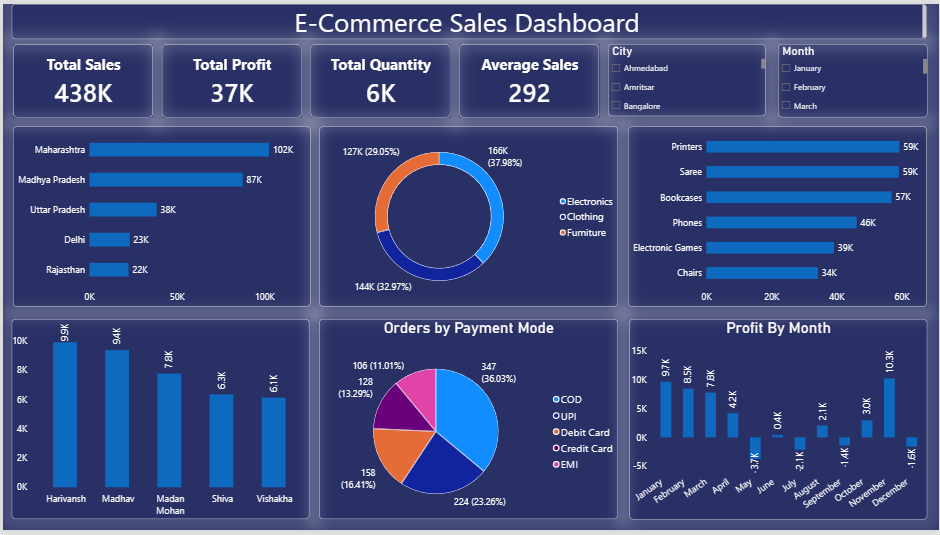

This screenshot's page, from the dashboard's own definition file:
{"tool":"powerbi","page":{"name":"Page 1","canvas":[1920,1080],"ordinal":0},"visuals":[{"type":"textbox","box":[17.9,0,1876.9,71.8],"z":0},{"type":"cardVisual","fields":{"Data":["Details.Total Sales"]},"box":[19.8,81.6,287.8,151],"z":1000},{"type":"cardVisual","fields":{"Data":["Details.Total Profit"]},"box":[325.9,81.6,287.8,151],"z":2000},{"type":"cardVisual","fields":{"Data":["Details.Total Quantity"]},"box":[632,81.6,287.8,151],"z":3000},{"type":"cardVisual","fields":{"Data":["Details.Average Sales"]},"box":[936.1,81.6,287.8,151],"z":4000},{"type":"clusteredBarChart","title":"Total Sales by States","fields":{"Category":["Orders.State"],"Y":["Sum(Details.Amount)"]},"box":[20.5,251.3,610.3,369.2],"z":5000},{"type":"donutChart","title":"Sales by Category","fields":{"Category":["Details.Category"],"Y":["Sum(Details.Amount)"]},"box":[648.7,251.3,612.8,369.2],"z":6000},{"type":"clusteredBarChart","title":"Sales by Sub-Category","fields":{"Category":["Details.Sub-Category"],"Y":["Sum(Details.Amount)"]},"box":[1282.1,251.3,612.8,369.2],"z":7000},{"type":"columnChart","title":"Top 5 Customers","fields":{"Category":["Orders.CustomerName"],"Y":["Sum(Details.Amount)"]},"box":[17.9,646.2,610.3,410.3],"z":8000},{"type":"pieChart","title":"Orders by Payment Mode","fields":{"Category":["Details.PaymentMode"],"Y":["Count(Details.Order ID)"]},"box":[648.7,646.2,612.8,410.3],"z":9000},{"type":"clusteredColumnChart","title":"Profit By Month","fields":{"Category":["Orders.Order Date.Variation.Date Hierarchy.Month"],"Y":["Sum(Details.Profit)"]},"box":[1284.8,645.7,610.9,410.9],"z":10000},{"type":"slicer","fields":{"Values":["Orders.Order Date.Variation.Date Hierarchy.Month"]},"box":[1589,82.3,306.7,150.3],"z":11000},{"type":"slicer","fields":{"Values":["Orders.City"]},"box":[1241.2,82.3,323.2,148.2],"z":12000}]}

Visuals, with their boxes in screenshot pixels (x1, y1, x2, y2), scaled from the page's 1920x1080 canvas onto the 940x535 screenshot:
textbox: rect(9, 0, 928, 36)
cardVisual - Details.Total Sales: rect(10, 40, 151, 115)
cardVisual - Details.Total Profit: rect(160, 40, 300, 115)
cardVisual - Details.Total Quantity: rect(309, 40, 450, 115)
cardVisual - Details.Average Sales: rect(458, 40, 599, 115)
"Total Sales by States" clusteredBarChart: rect(10, 124, 309, 307)
"Sales by Category" donutChart: rect(318, 124, 618, 307)
"Sales by Sub-Category" clusteredBarChart: rect(628, 124, 928, 307)
"Top 5 Customers" columnChart: rect(9, 320, 308, 523)
"Orders by Payment Mode" pieChart: rect(318, 320, 618, 523)
"Profit By Month" clusteredColumnChart: rect(629, 320, 928, 523)
slicer - Orders.Order Date.Variation.Date Hierarchy.Month: rect(778, 41, 928, 115)
slicer - Orders.City: rect(608, 41, 766, 114)
